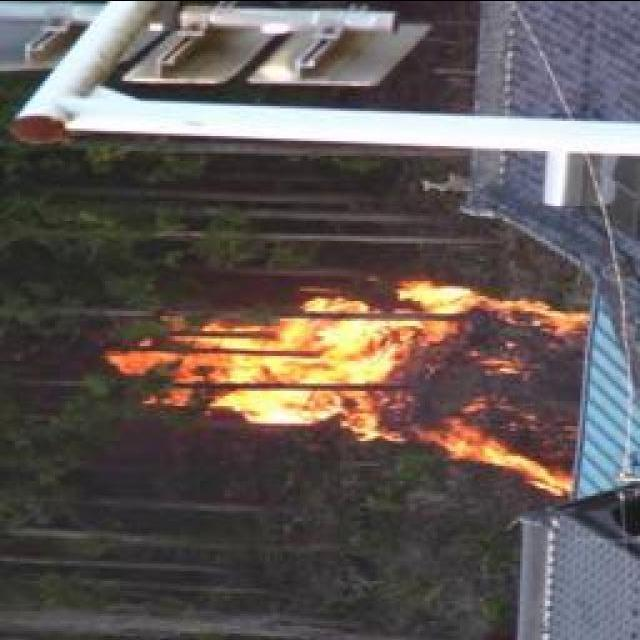Fire: (111, 286, 594, 480)
